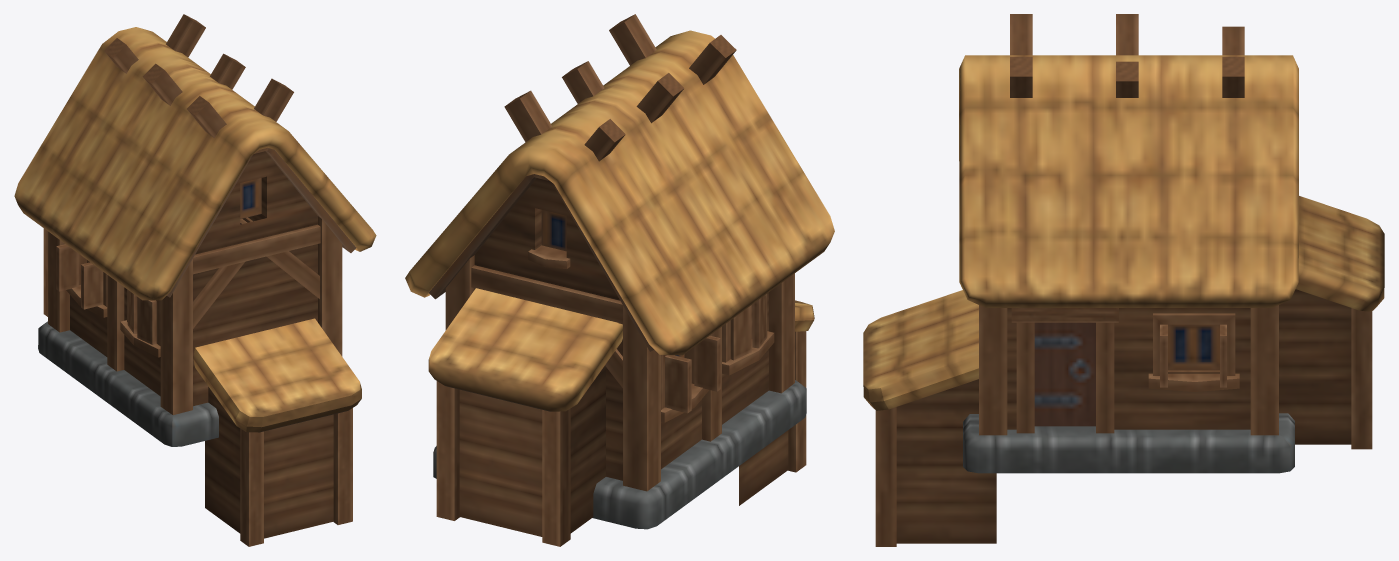
The model's file is house_4_2.FBX.
3 views of the same model, side by side, from view 1: azimuth 30°, elevation 25°; view 2: azimuth 150°, elevation 25°; view 3: azimuth 270°, elevation 25° (orthographic). The views are drawn at different scales.
Visible parts, largest first — view 1: polySurface1252; view 2: polySurface1252; view 3: polySurface1252.
Part boxes in pixels (left/top/right/bottom): polySurface1252: left=14, top=14, right=376, bottom=546; polySurface1252: left=405, top=14, right=834, bottom=546; polySurface1252: left=863, top=14, right=1384, bottom=546.
Size of the model in its own units: 60.59 by 97.79 by 95.97.
